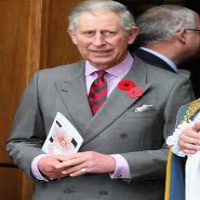ring: (61, 162, 87, 174), (180, 143, 200, 150)
